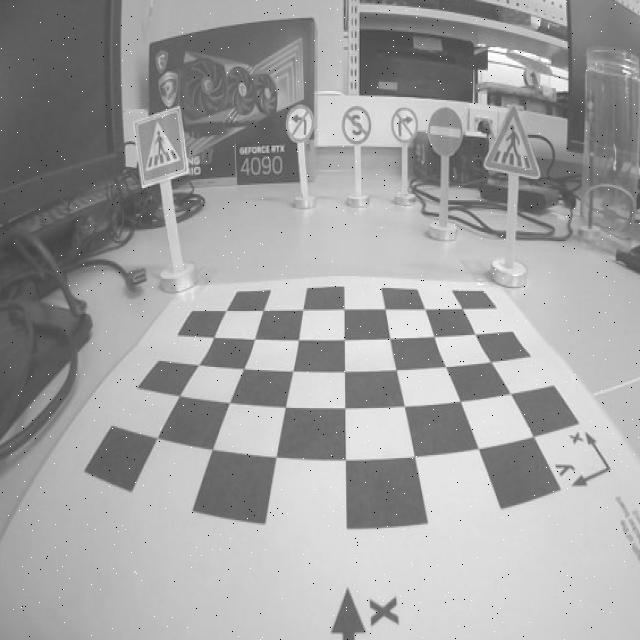Dilarang Belok Kanan: (390, 106, 418, 143)
Dilarang Belok Kiri: (284, 104, 315, 142)
Dilarang Masuk: (428, 106, 463, 156)
Rambu Berhenti: (340, 104, 371, 146)
Rambu Penyebrangan: (484, 106, 540, 176), (137, 110, 186, 183)
